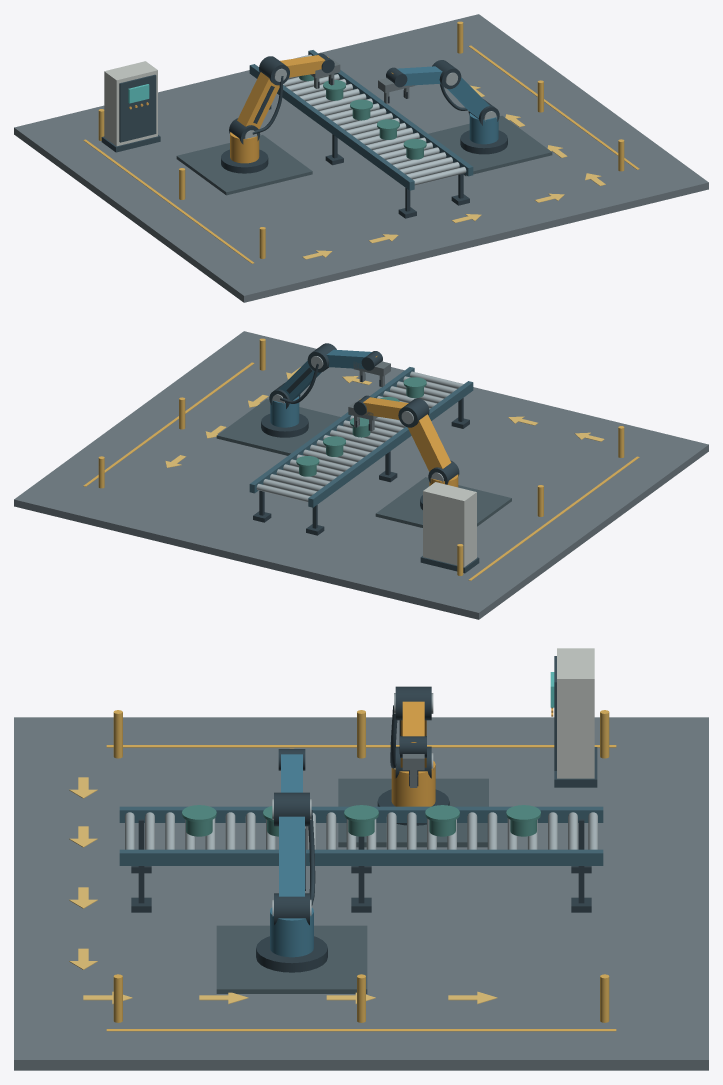
The model's file is robotCell.glb.
The picture shows the model from 3 angles, top to bottom: view 1: azimuth 30°, elevation 25°; view 2: azimuth 150°, elevation 25°; view 3: azimuth 270°, elevation 25°; orthographic projection. The views are drawn at different scales.
Parts seen in each view (by area): view 1: robotCell/foundation, robotCell/robotPads/0, robotCell/robotPads/1, robotCell/controller/body, robotCell/controller/door, robotCell/transferLine/sideRails/0, robotCell/transferLine/sideRails/1, robotCell/leftRobot/upperLink, robotCell/rightRobot/turret, robotCell/leftRobot/turret, robotCell/rightRobot/upperLink, robotCell/rightRobot/base (+6 smaller); view 2: robotCell/foundation, robotCell/controller/body, robotCell/robotPads/1, robotCell/robotPads/0, robotCell/transferLine/sideRails/0, robotCell/transferLine/sideRails/1, robotCell/leftRobot/upperLink, robotCell/rightRobot/turret, robotCell/rightRobot/base, robotCell/leftRobot/forearm, robotCell/rightRobot/forearm, robotCell/safetyLines/0 (+3 smaller); view 3: robotCell/foundation, robotCell/transferLine/sideRails/1, robotCell/robotPads/1, robotCell/controller/body, robotCell/robotPads/0, robotCell/transferLine/sideRails/0, robotCell/rightRobot/upperLink, robotCell/rightRobot/turret, robotCell/safetyLines/1, robotCell/rightRobot/base, robotCell/leftRobot/turret, robotCell/safetyLines/0 (+5 smaller).
Boxes of the visible parts, bbox=[...] form: robotCell/foundation: bbox=[14, 14, 708, 302]; robotCell/robotPads/0: bbox=[176, 135, 312, 195]; robotCell/robotPads/1: bbox=[428, 115, 552, 176]; robotCell/controller/body: bbox=[104, 61, 157, 146]; robotCell/controller/door: bbox=[119, 74, 156, 142]; robotCell/transferLine/sideRails/0: bbox=[249, 64, 414, 190]; robotCell/transferLine/sideRails/1: bbox=[308, 50, 473, 176]; robotCell/leftRobot/upperLink: bbox=[237, 72, 279, 128]; robotCell/rightRobot/turret: bbox=[469, 113, 498, 144]; robotCell/leftRobot/turret: bbox=[230, 132, 259, 163]; robotCell/rightRobot/upperLink: bbox=[447, 77, 489, 118]; robotCell/rightRobot/base: bbox=[460, 130, 507, 154]; robotCell/foundation: bbox=[14, 331, 708, 619]; robotCell/controller/body: bbox=[423, 482, 476, 567]; robotCell/robotPads/1: bbox=[216, 399, 340, 455]; robotCell/robotPads/0: bbox=[375, 477, 511, 527]; robotCell/transferLine/sideRails/0: bbox=[308, 381, 473, 507]; robotCell/transferLine/sideRails/1: bbox=[249, 367, 414, 493]; robotCell/leftRobot/upperLink: bbox=[408, 414, 451, 471]; robotCell/rightRobot/turret: bbox=[270, 396, 299, 427]; robotCell/rightRobot/base: bbox=[261, 413, 308, 437]; robotCell/leftRobot/forearm: bbox=[363, 397, 408, 419]; robotCell/rightRobot/forearm: bbox=[326, 349, 371, 369]; robotCell/safetyLines/0: bbox=[468, 456, 639, 580]; robotCell/foundation: bbox=[14, 717, 708, 1070]; robotCell/transferLine/sideRails/1: bbox=[119, 849, 603, 865]; robotCell/robotPads/1: bbox=[216, 925, 367, 993]; robotCell/controller/body: bbox=[557, 648, 594, 778]; robotCell/robotPads/0: bbox=[338, 778, 488, 847]; robotCell/transferLine/sideRails/0: bbox=[119, 806, 603, 822]; robotCell/rightRobot/upperLink: bbox=[279, 816, 304, 896]; robotCell/rightRobot/turret: bbox=[270, 907, 313, 957]; robotCell/safetyLines/1: bbox=[106, 1029, 616, 1031]; robotCell/rightRobot/base: bbox=[256, 936, 327, 972]; robotCell/leftRobot/turret: bbox=[391, 761, 435, 806]; robotCell/safetyLines/0: bbox=[106, 745, 616, 747].
Bounding box in the file's own units: 14 × 3.04 × 12.
